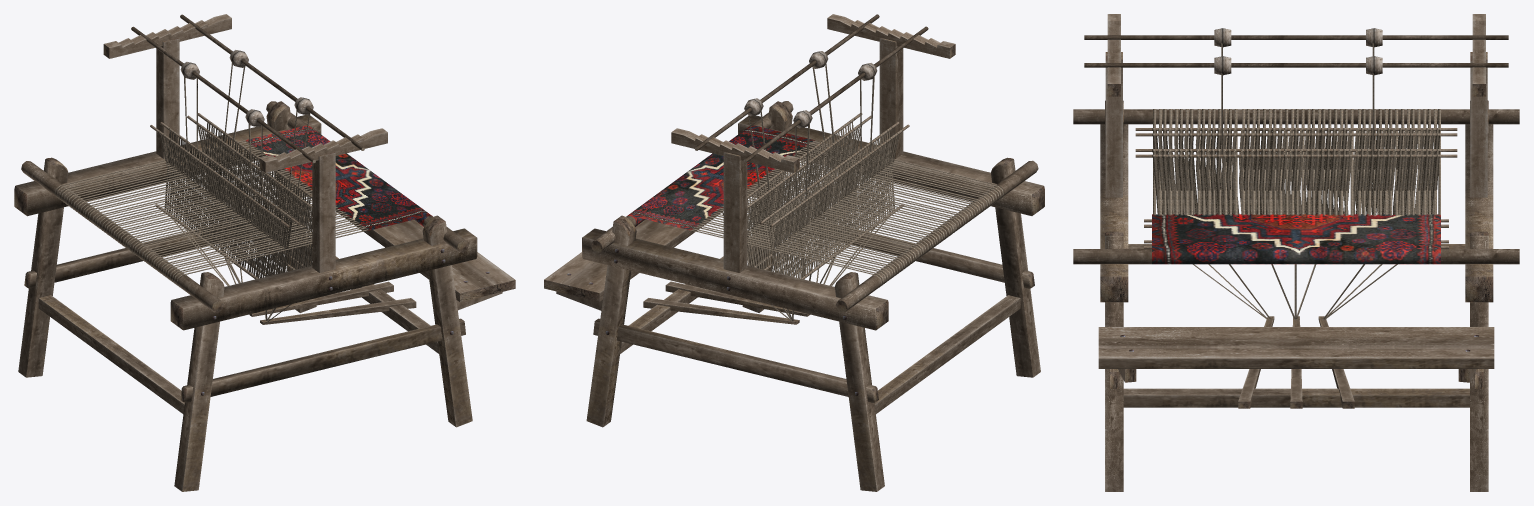
The model's file is Loom.dae.
3 renders of one model, left to right at view 1: azimuth 30°, elevation 25°; view 2: azimuth 150°, elevation 25°; view 3: azimuth 270°, elevation 25°, orthographic. The views are drawn at different scales.
Visible parts, largest first — view 1: Loom; view 2: Loom; view 3: Loom.
Boxes of the visible parts, x1=… form: Loom: x1=14, y1=14, x2=515, y2=491; Loom: x1=544, y1=14, x2=1044, y2=491; Loom: x1=1073, y1=14, x2=1519, y2=491.
Bounding box in the file's own units: 2.17 × 1.97 × 2.15.
1 material, 1 textured.
